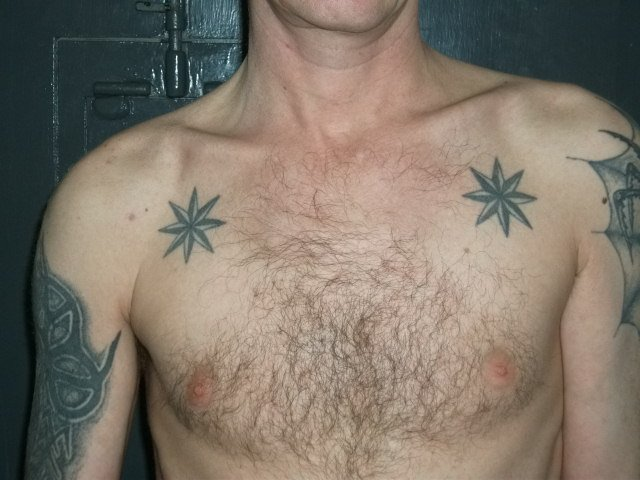tatu4_zvezda: (461, 157, 540, 238), (157, 187, 226, 264)
